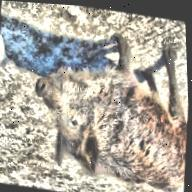boar: (24, 22, 192, 192)
